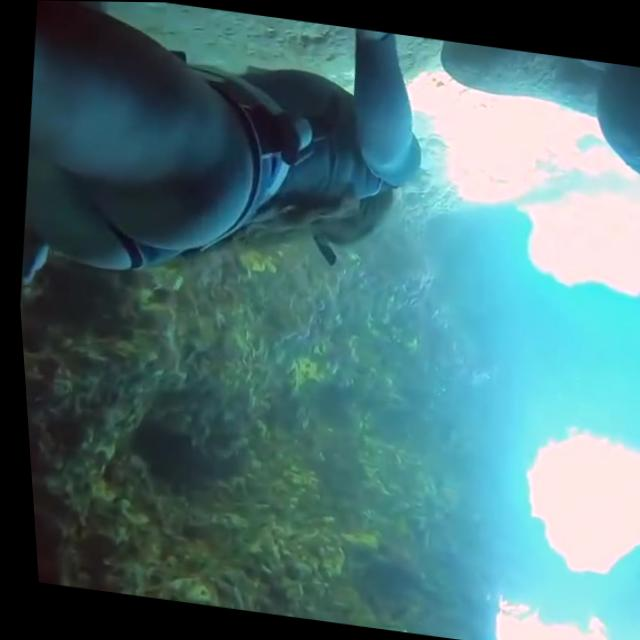human: (0, 0, 466, 390)
